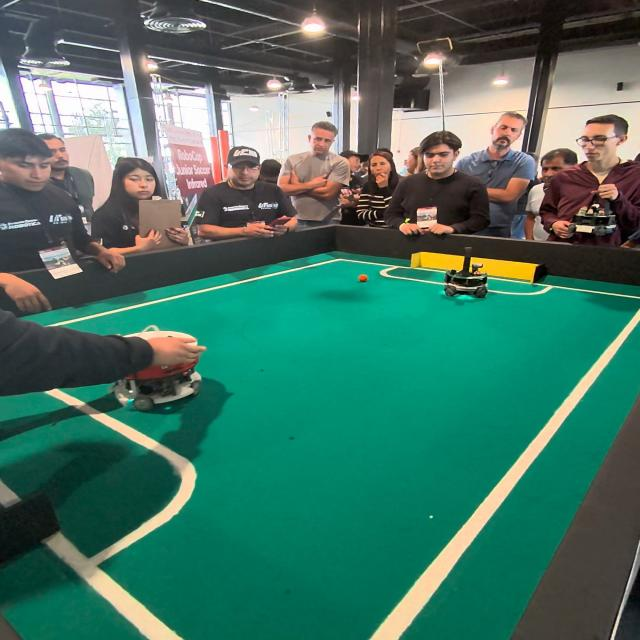Robot: (110, 319, 228, 419), (439, 250, 491, 307)
pelota: (357, 272, 369, 284)
